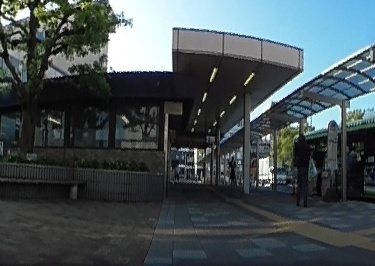person: (291, 133, 312, 207), (226, 155, 237, 186)
